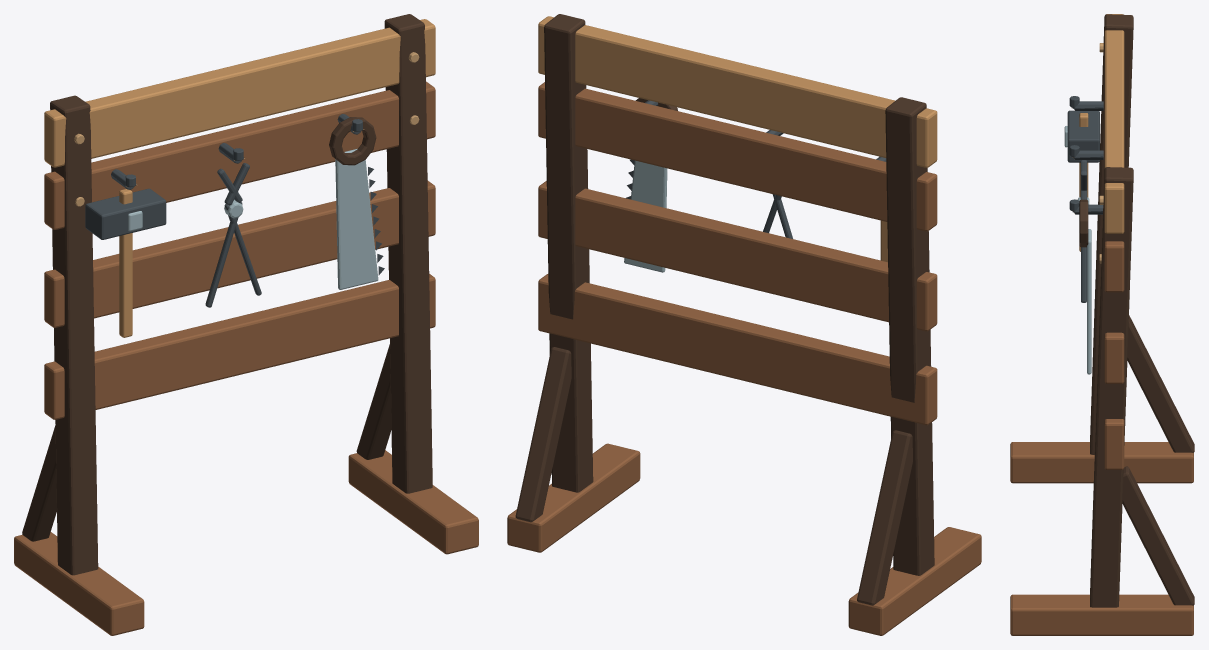
The model's file is tool_rack.glb.
3 renders of one model, left to right at view 1: azimuth 30°, elevation 25°; view 2: azimuth 150°, elevation 25°; view 3: azimuth 270°, elevation 25°, orthographic. The views are drawn at different scales.
Parts seen in each view (by area): view 1: tool_rack__structure, tool_rack__equipment, tool_rack__finish; view 2: tool_rack__structure, tool_rack__equipment; view 3: tool_rack__structure, tool_rack__equipment, tool_rack__finish.
Part boxes in pixels (x1,y1,x2,y2): tool_rack__structure: (14,14,478,635); tool_rack__equipment: (85,117,384,337); tool_rack__finish: (74,52,419,206); tool_rack__structure: (507,14,981,635); tool_rack__equipment: (624,98,887,272); tool_rack__structure: (1010,14,1194,635); tool_rack__equipment: (1064,110,1099,374); tool_rack__finish: (1069,43,1103,263).
Bounding box in the file's own units: 1.35 × 1.65 × 0.6014.
